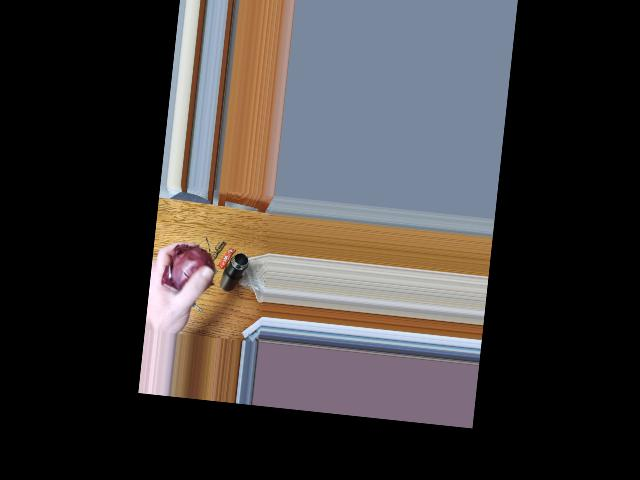onion: (165, 246, 209, 297)
